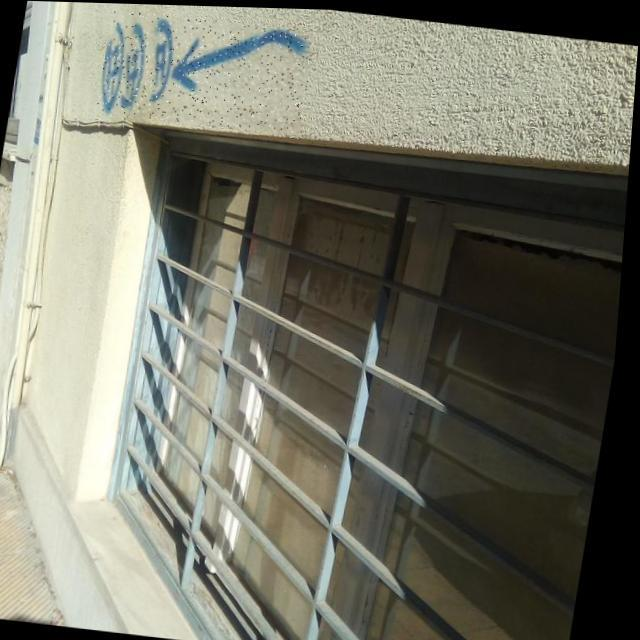-: (96, 8, 316, 134)
